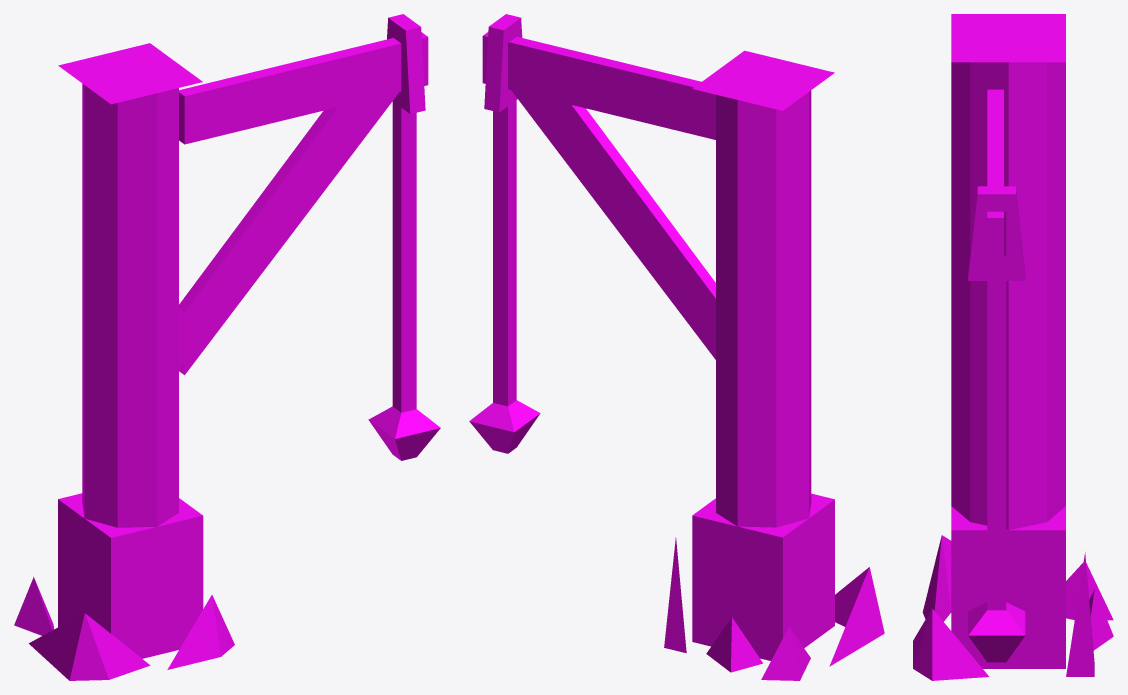
The model's file is ScaffoldsupportRope.obj.
3 renders of one model, left to right at view 1: azimuth 30°, elevation 25°; view 2: azimuth 150°, elevation 25°; view 3: azimuth 270°, elevation 25°, orthographic. The views are drawn at different scales.
Visible parts, largest first — view 1: ScaffoldsupportRope_front, ScaffoldsupportRope_back; view 2: ScaffoldsupportRope_front, ScaffoldsupportRope_back; view 3: ScaffoldsupportRope_front, ScaffoldsupportRope_back.
Part boxes in pixels (x1,y1,x2,y2): ScaffoldsupportRope_front: (14, 43, 234, 680); ScaffoldsupportRope_back: (179, 14, 440, 460); ScaffoldsupportRope_front: (664, 50, 884, 680); ScaffoldsupportRope_back: (469, 14, 715, 453); ScaffoldsupportRope_front: (913, 14, 1113, 680); ScaffoldsupportRope_back: (968, 89, 1025, 662).
Size of the model in its own units: 2 by 2.8 by 0.84.
